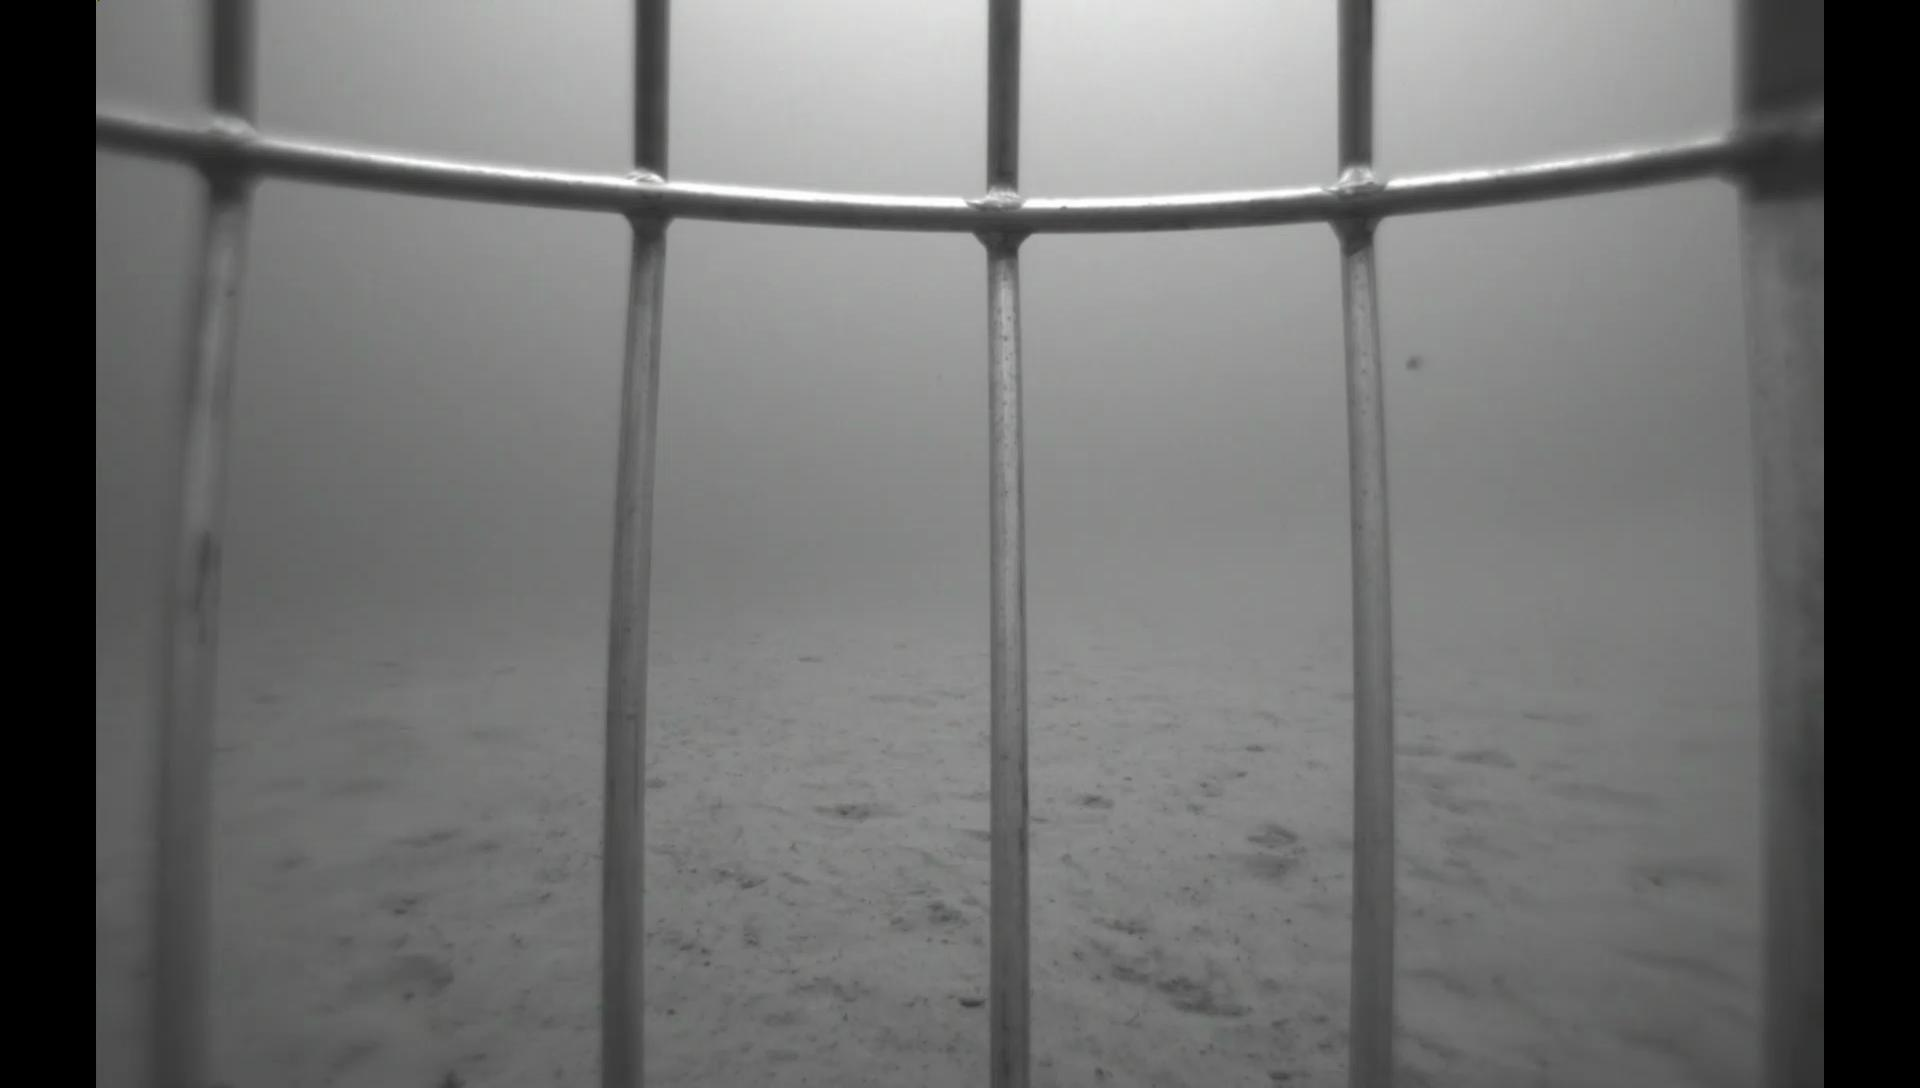PRISTIPOMOIDES-170151800: (284, 698, 440, 769)
